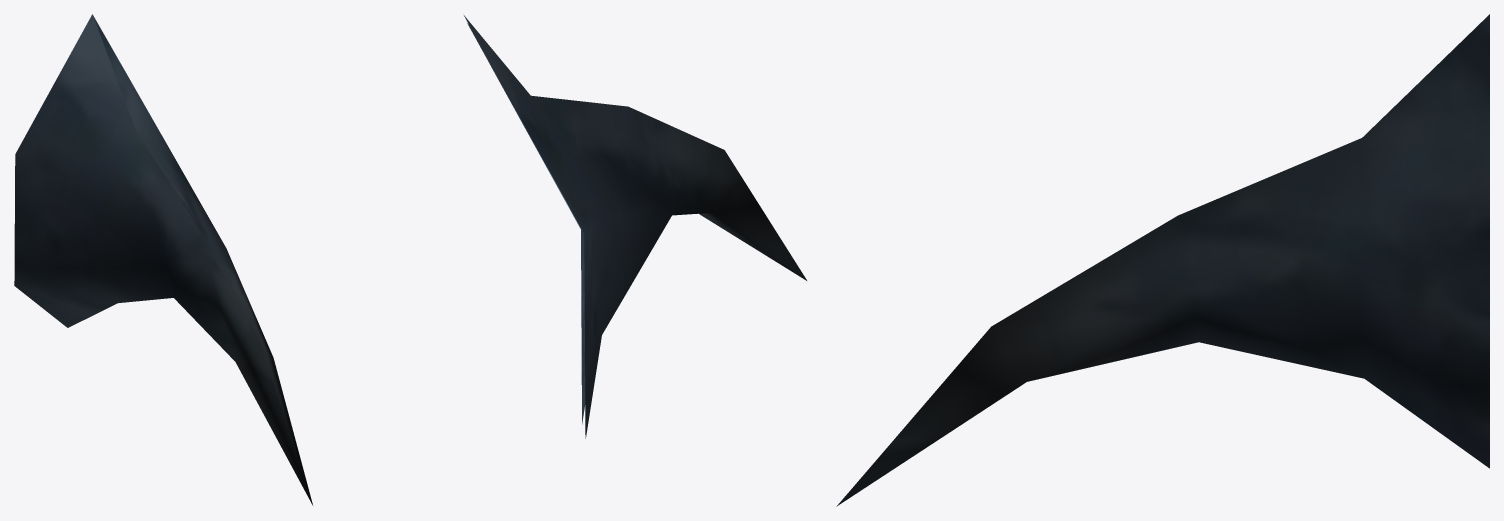
The picture shows the model from 3 angles, left to right: view 1: azimuth 30°, elevation 25°; view 2: azimuth 150°, elevation 25°; view 3: azimuth 270°, elevation 25°; orthographic projection. The views are drawn at different scales.
Parts seen in each view (by area): view 1: model_Object55; view 2: model_Object55; view 3: model_Object55.
Boxes of the visible parts, x1,y1,x2,y2 form: model_Object55: (14, 14, 312, 505); model_Object55: (464, 15, 806, 438); model_Object55: (836, 14, 1489, 506).
Bounding box in the file's own units: 0.7279 × 1.49 × 1.79.
2 materials, 2 textured.
